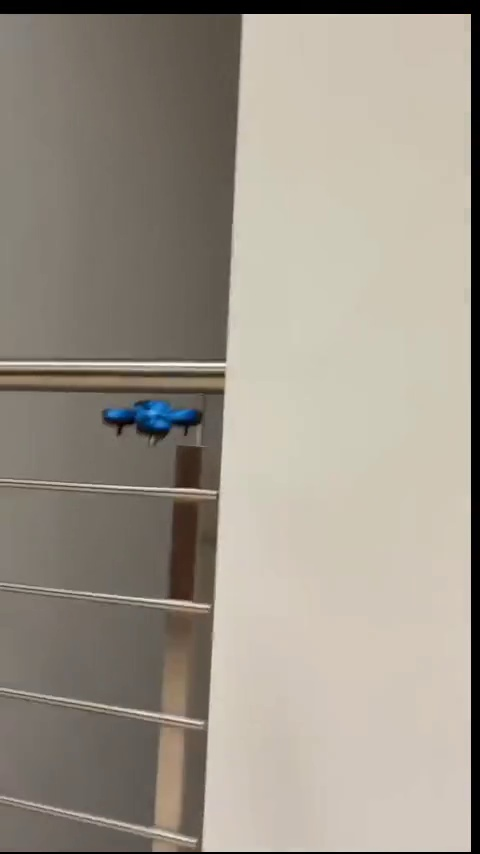drone: (102, 395, 201, 450)
